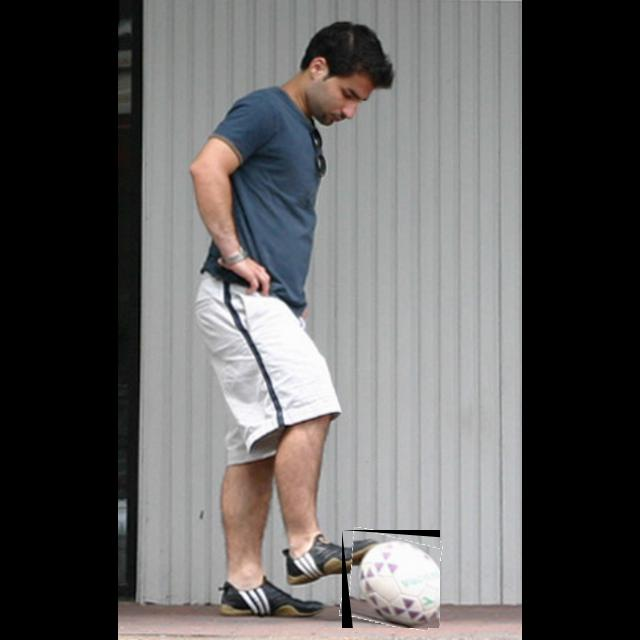Football: (342, 530, 440, 628)
